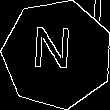N_S: (35, 28, 79, 80)
